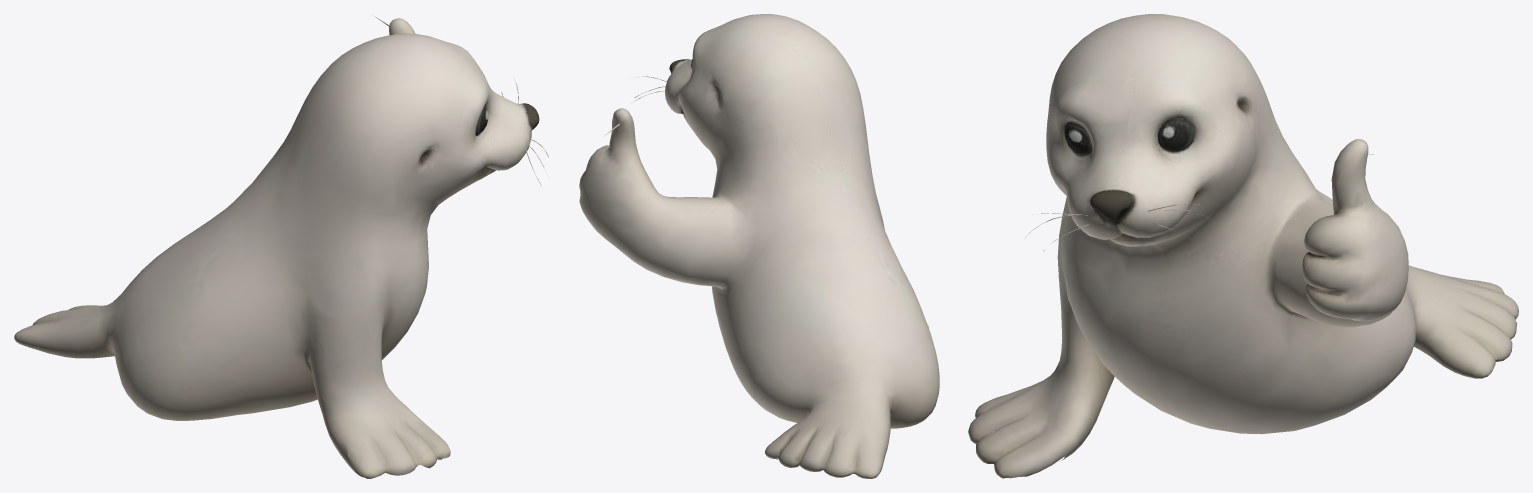
The model's file is seal-v1.glb.
3 views of the same model, side by side, from view 1: azimuth 30°, elevation 25°; view 2: azimuth 150°, elevation 25°; view 3: azimuth 270°, elevation 25° (orthographic). The views are drawn at different scales.
Parts seen in each view (by area): view 1: prop__seal; view 2: prop__seal; view 3: prop__seal.
Boxes of the visible parts, bbox=[...] form: prop__seal: bbox=[14, 15, 549, 478]; prop__seal: bbox=[579, 14, 939, 478]; prop__seal: bbox=[968, 14, 1518, 478].
Size of the model in its own units: 0.4618 by 0.42 by 0.452.
Materials: 1 (1 with a texture image).
